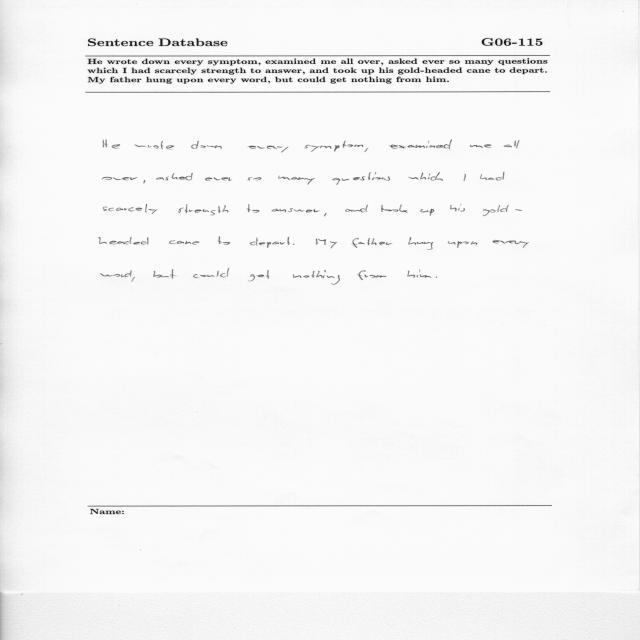word: (332, 172, 390, 185), (293, 270, 340, 285), (304, 141, 363, 152), (389, 140, 452, 150), (178, 205, 229, 216), (103, 204, 157, 214), (250, 237, 290, 248), (483, 205, 522, 216), (101, 270, 136, 282), (352, 238, 392, 248), (99, 237, 148, 245), (134, 141, 174, 150), (193, 268, 229, 278), (278, 176, 315, 185), (408, 237, 433, 250), (408, 172, 443, 181), (156, 173, 193, 181), (493, 240, 530, 248), (357, 270, 386, 280), (248, 146, 288, 153), (191, 141, 222, 149), (271, 208, 320, 213), (248, 270, 269, 281), (381, 205, 408, 213), (407, 269, 431, 278), (316, 239, 337, 249), (448, 241, 477, 248), (480, 172, 504, 180), (345, 205, 368, 213), (103, 140, 120, 149), (169, 240, 199, 245), (504, 141, 519, 149), (450, 204, 465, 212), (154, 271, 170, 278), (102, 177, 138, 180), (205, 177, 232, 181), (247, 204, 259, 213), (421, 209, 435, 216), (218, 237, 230, 245), (470, 144, 491, 148), (170, 269, 177, 279), (247, 178, 262, 181), (364, 148, 368, 152), (464, 174, 466, 181), (324, 213, 327, 216), (144, 180, 146, 184), (293, 243, 295, 245), (436, 276, 437, 278)
